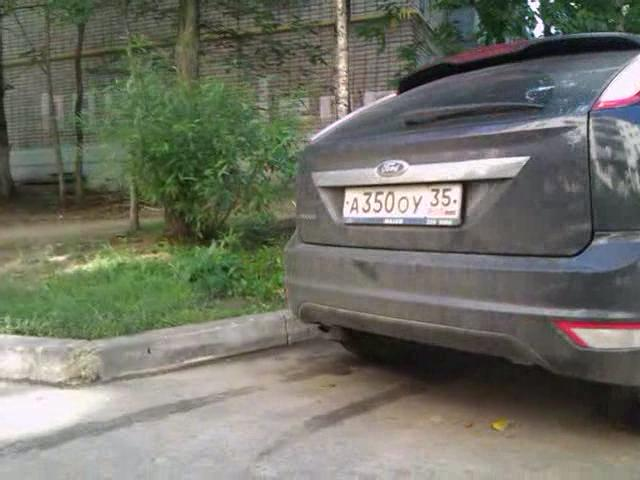car license plate: (342, 184, 464, 228)
